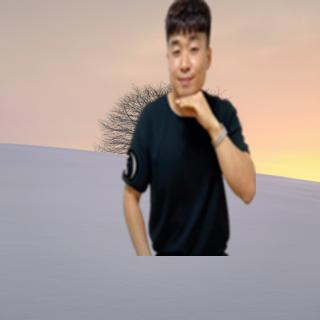Wait: (169, 89, 216, 128)
